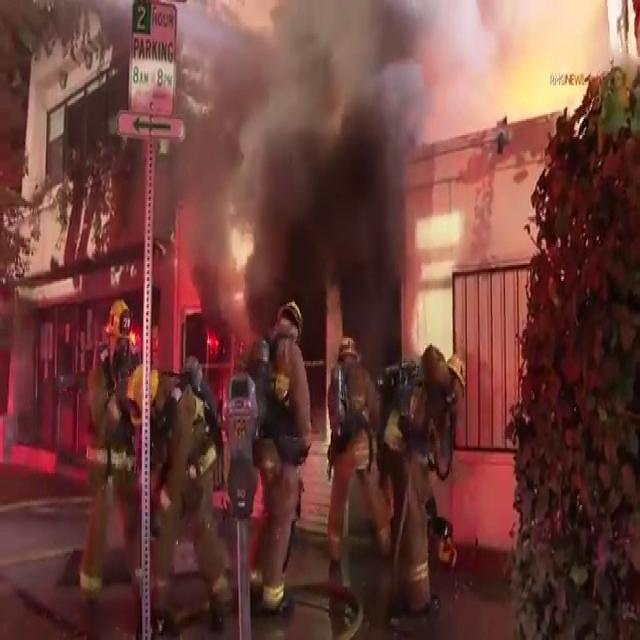Smoke: (165, 1, 445, 268)
